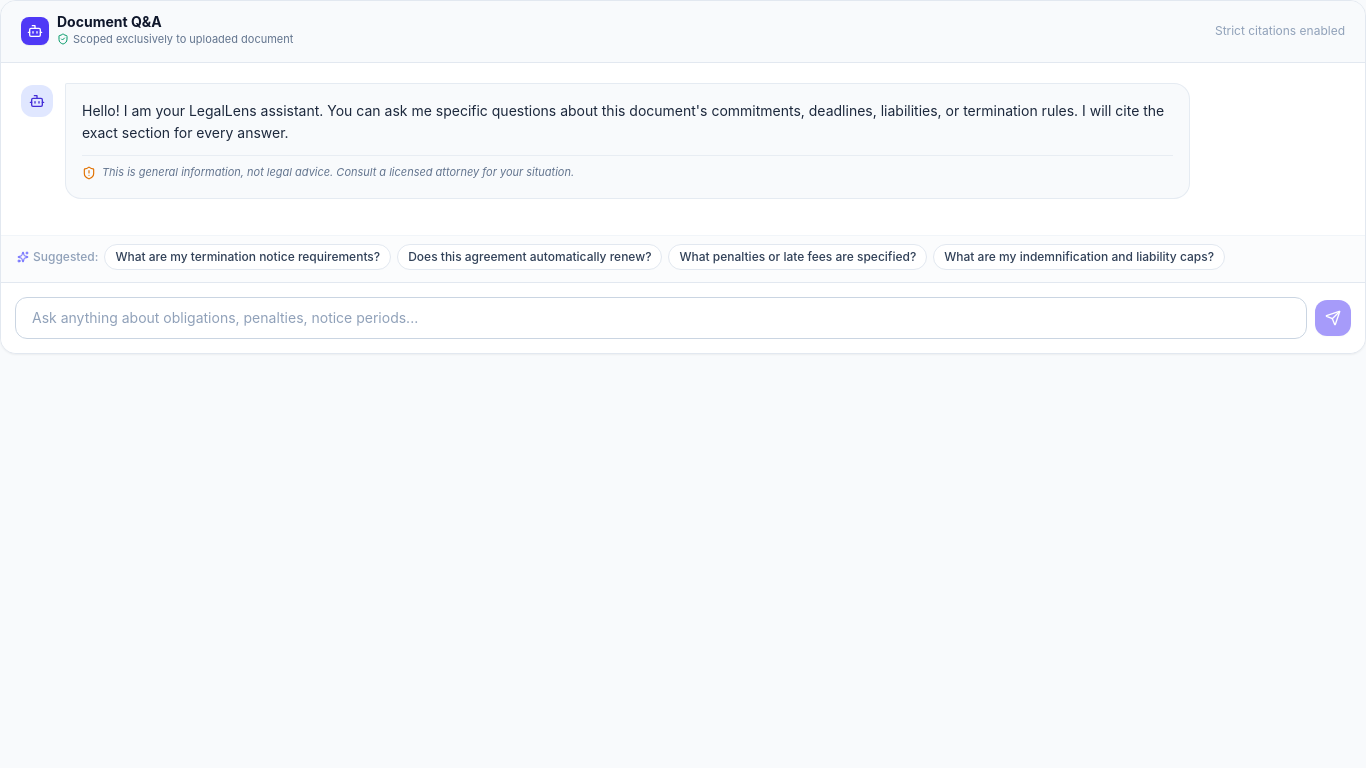
it: Flow 4: Document Q&A Chat Streaming & Citation Highlighting › renders the legal disclaimer beneath each AI response bubble
Expected: the text "This is general information, not legal advice. Consult a licensed attorney for your situation." is shown, [102, 165, 574, 179]
// Send a question to get an AI reply
In the field with placeholder "Ask anything about obligations": point(661, 318) [15, 297, 1307, 339], type "What is the liability cap?"
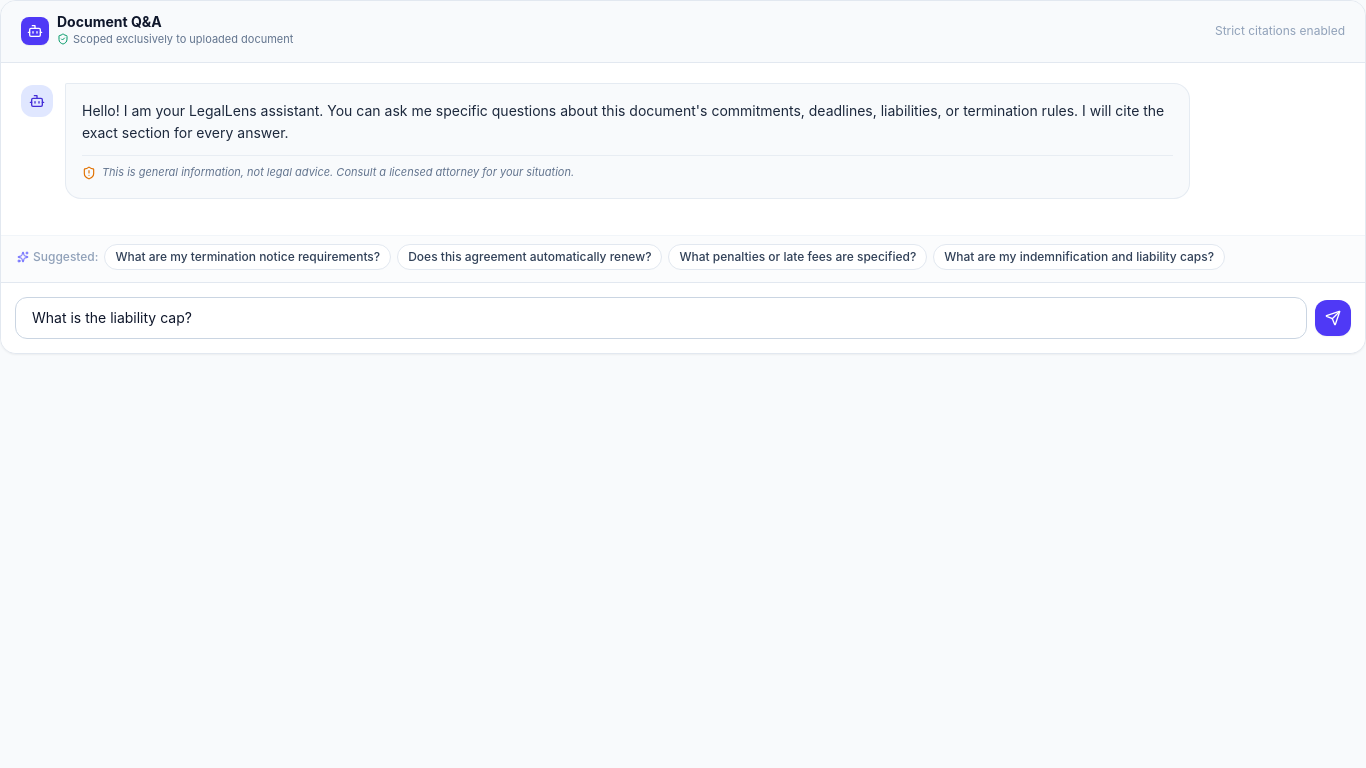
Click the button named "send question": point(1333, 318) [1315, 300, 1351, 336]
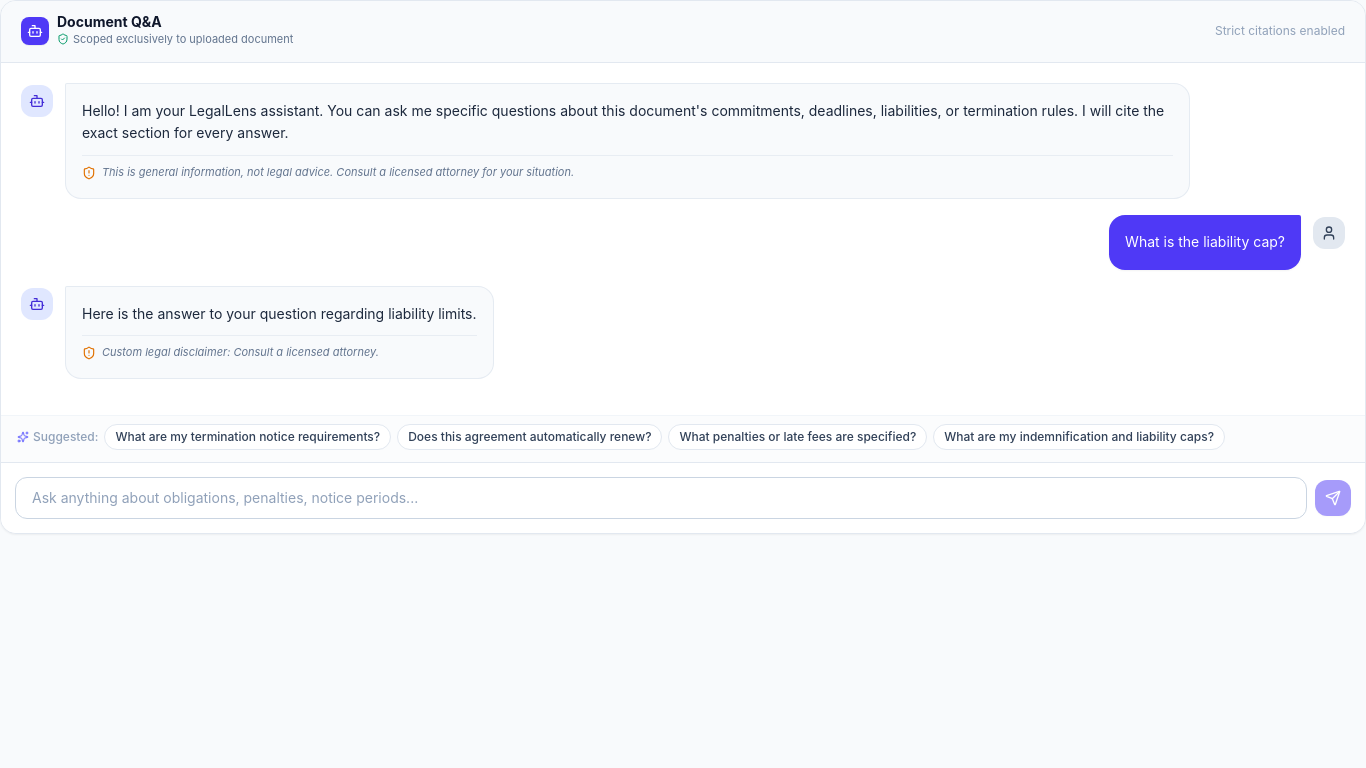
Expected: the text "What is the liability cap?" does not show "Custom legal disclaimer: Consult a licensed attorney."
Expected: the text "Custom legal disclaimer: Consult a licensed attorney." is shown, [102, 344, 379, 362]
